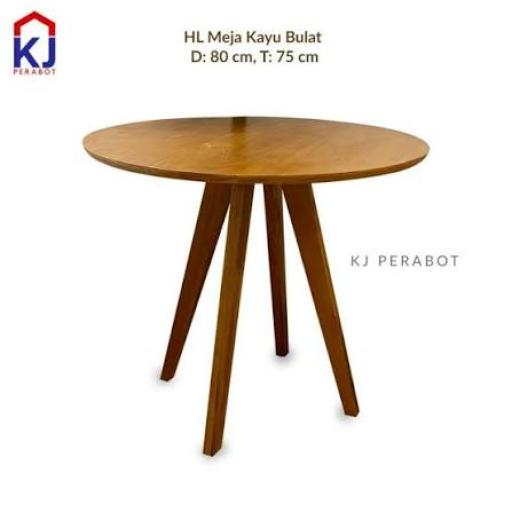meja: (76, 112, 466, 458)
